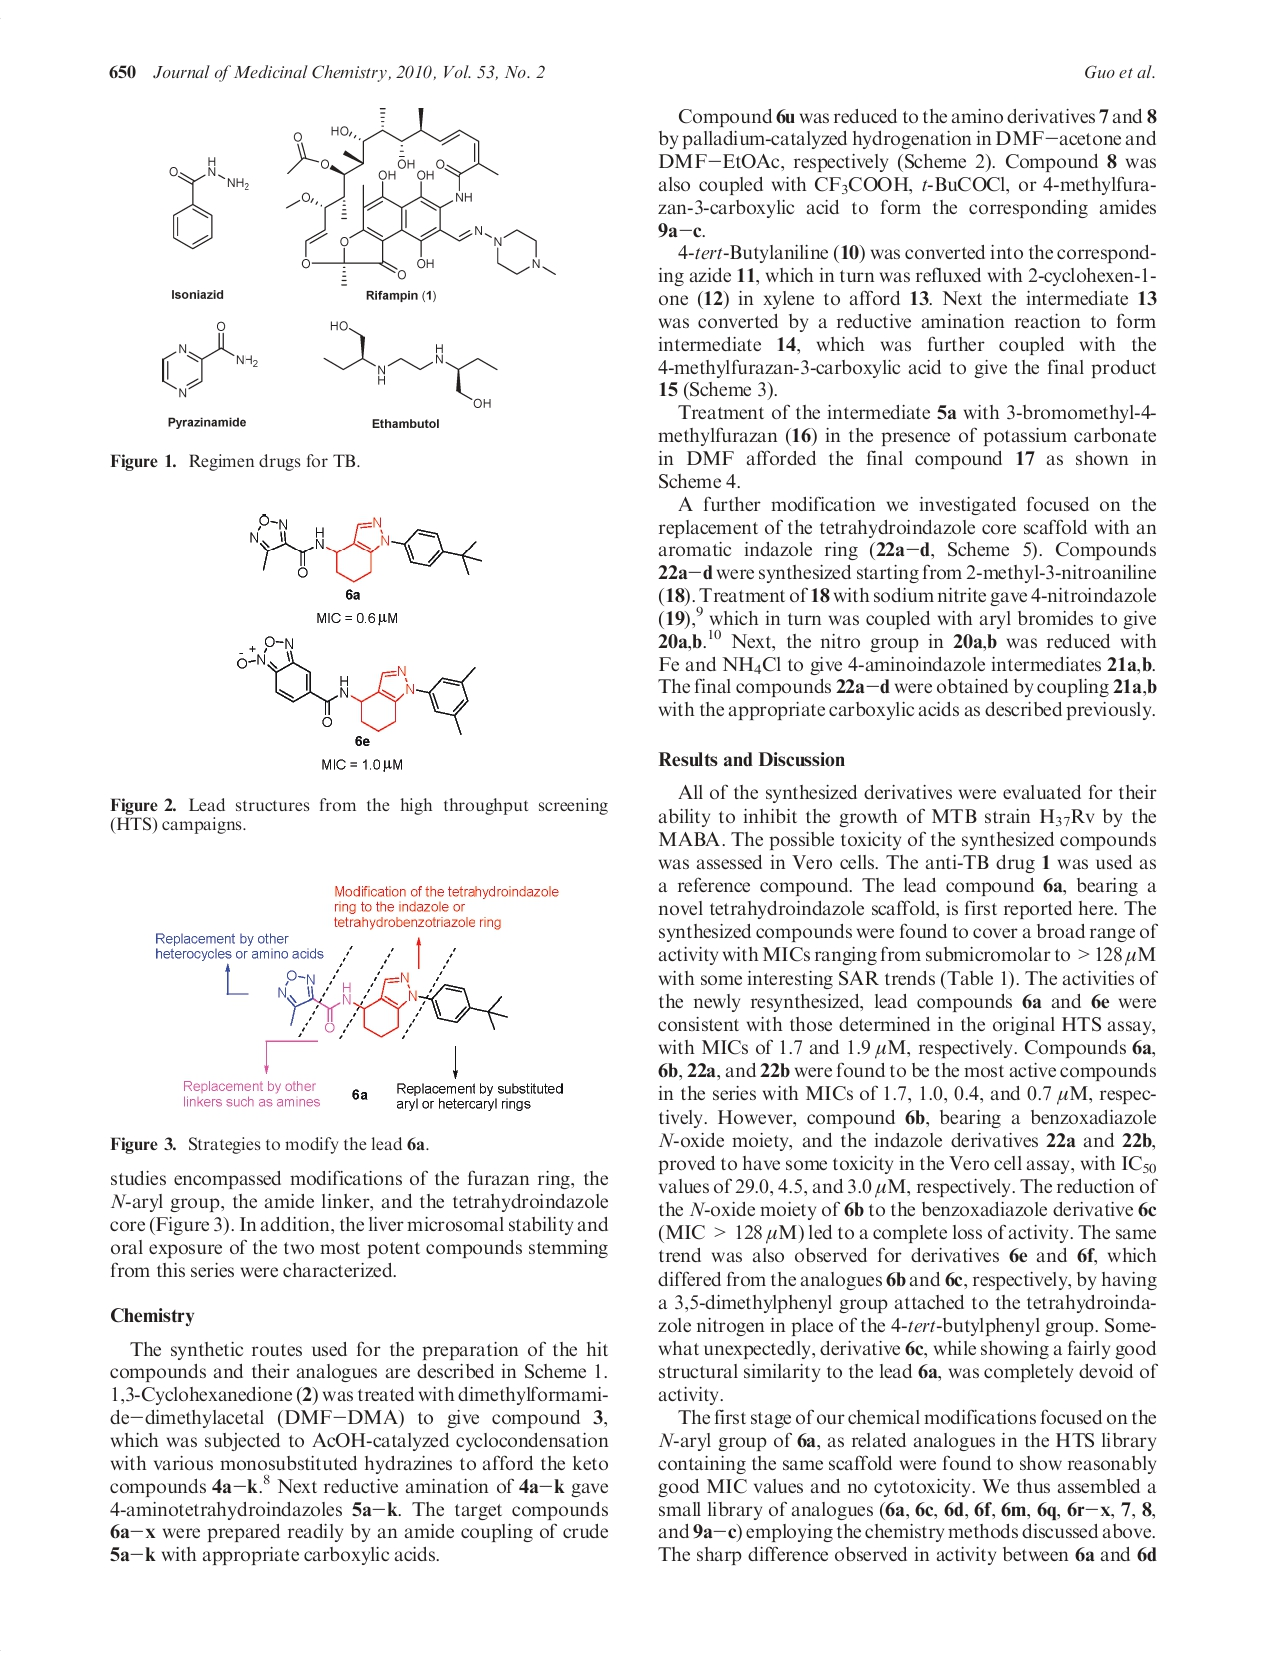exist_molecular: (283, 105, 557, 289), (237, 634, 477, 735), (247, 513, 483, 584), (277, 969, 511, 1039), (322, 319, 499, 410), (160, 321, 259, 399), (168, 156, 250, 250)
